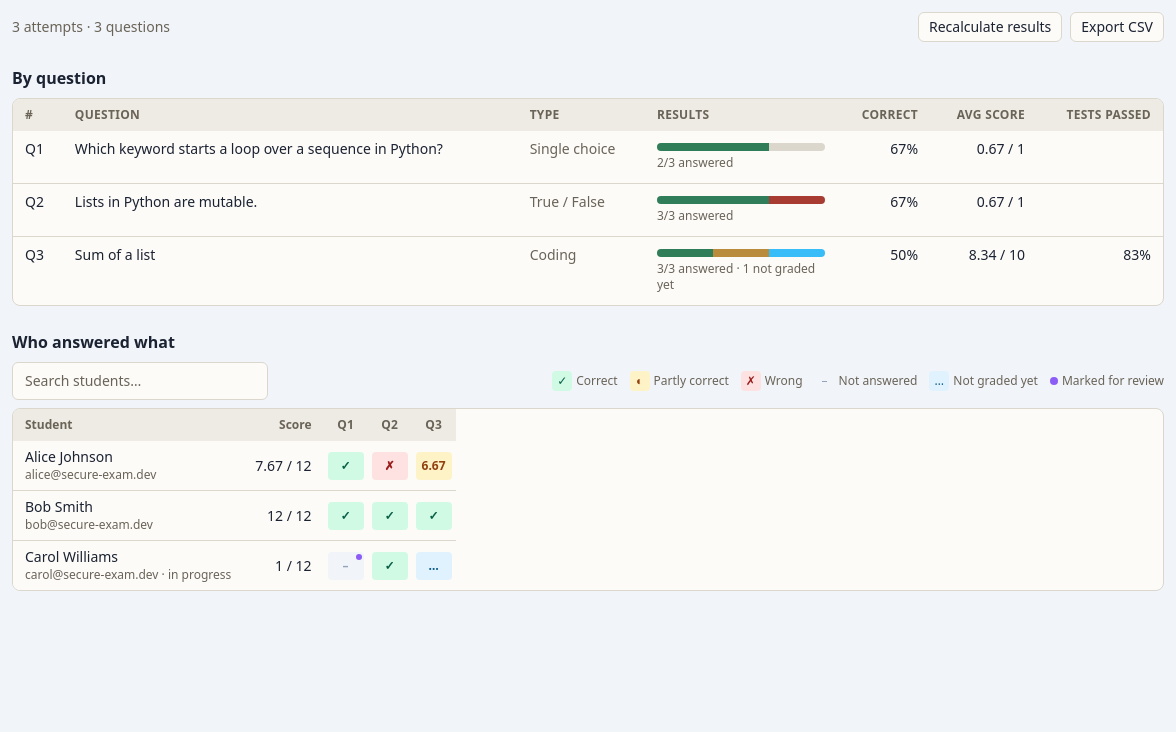
Scenario: QuestionsTab › expands an MCQ to show how many students chose each option
Click the button "Which keyword starts a loop over a sequence in Python?" at (259, 149), box [75,139,443,159]
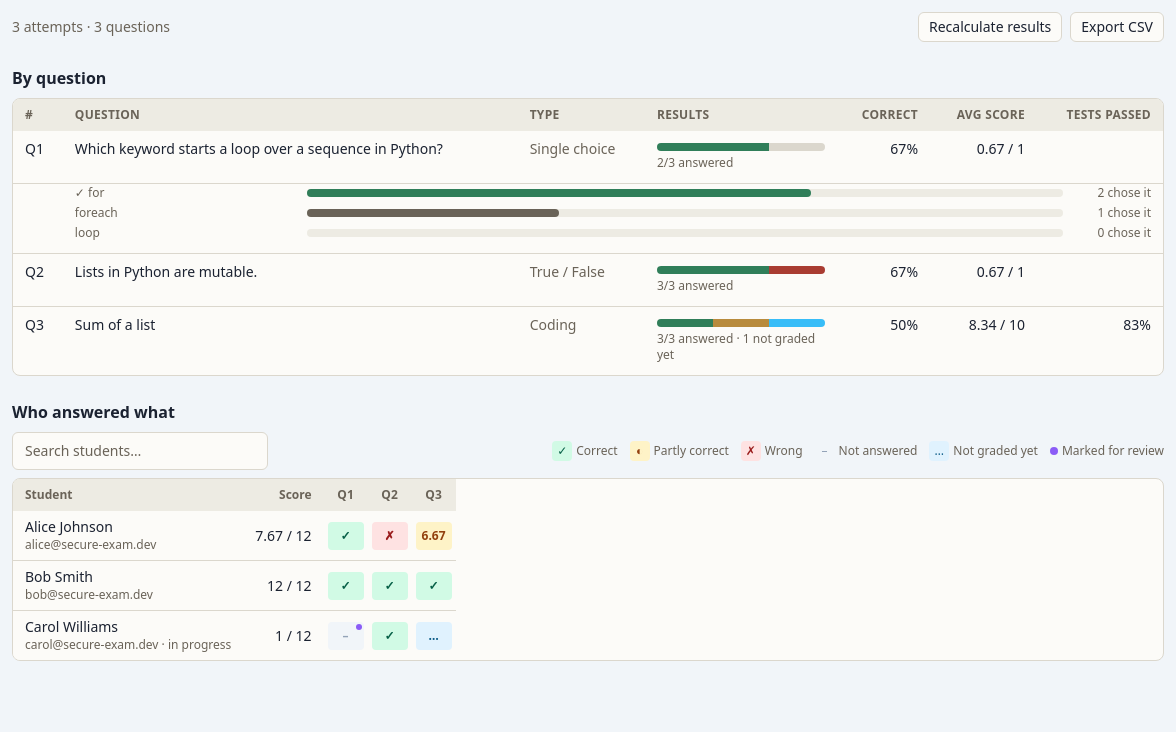
Now the text "2 chose it" is shown, box [1098,184,1151,201]
Now the text titled "for" reads "✓ for", box [75,184,104,201]
